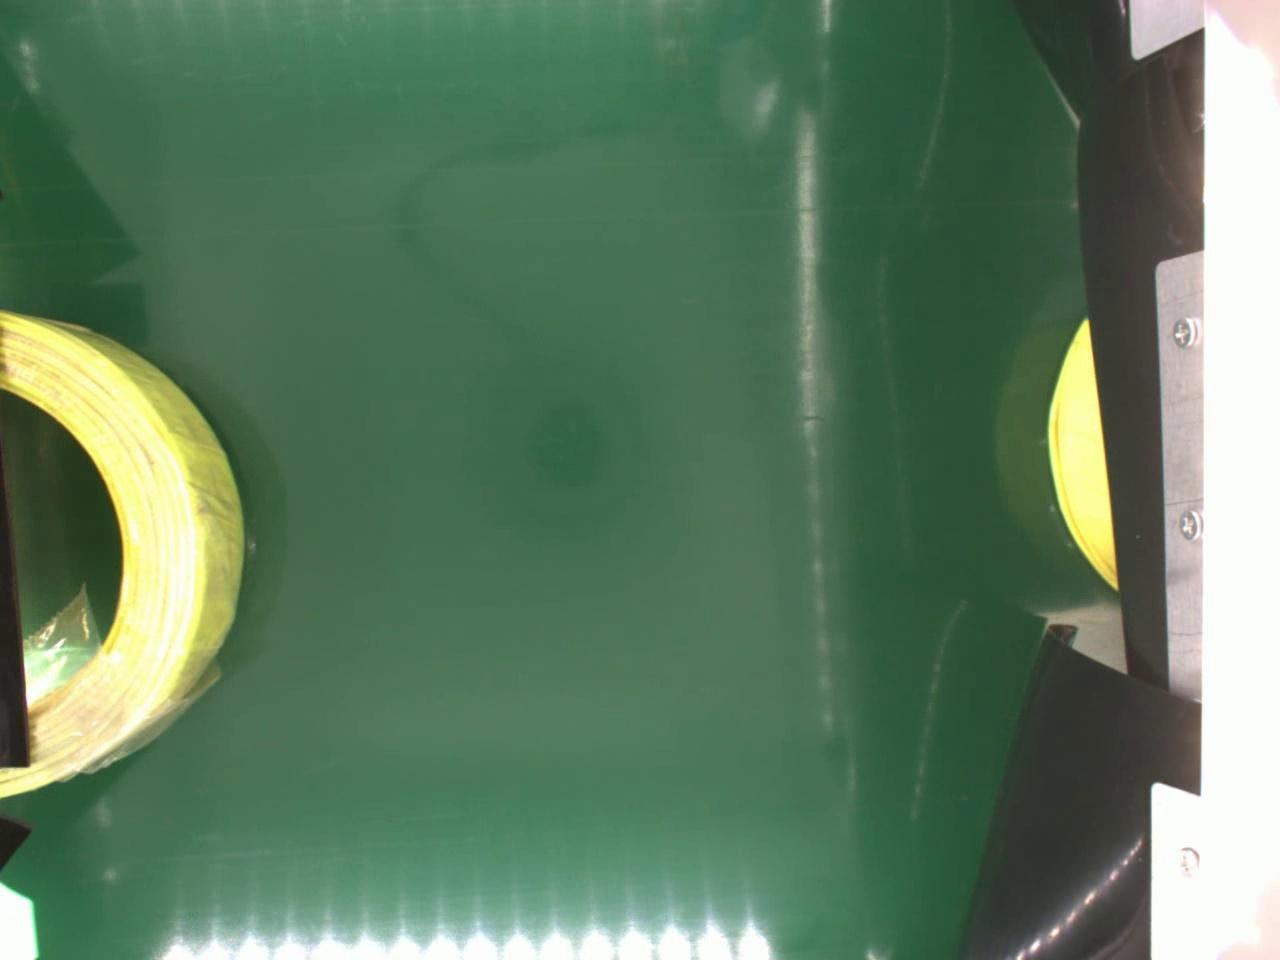yellow: (0, 309, 253, 800)
